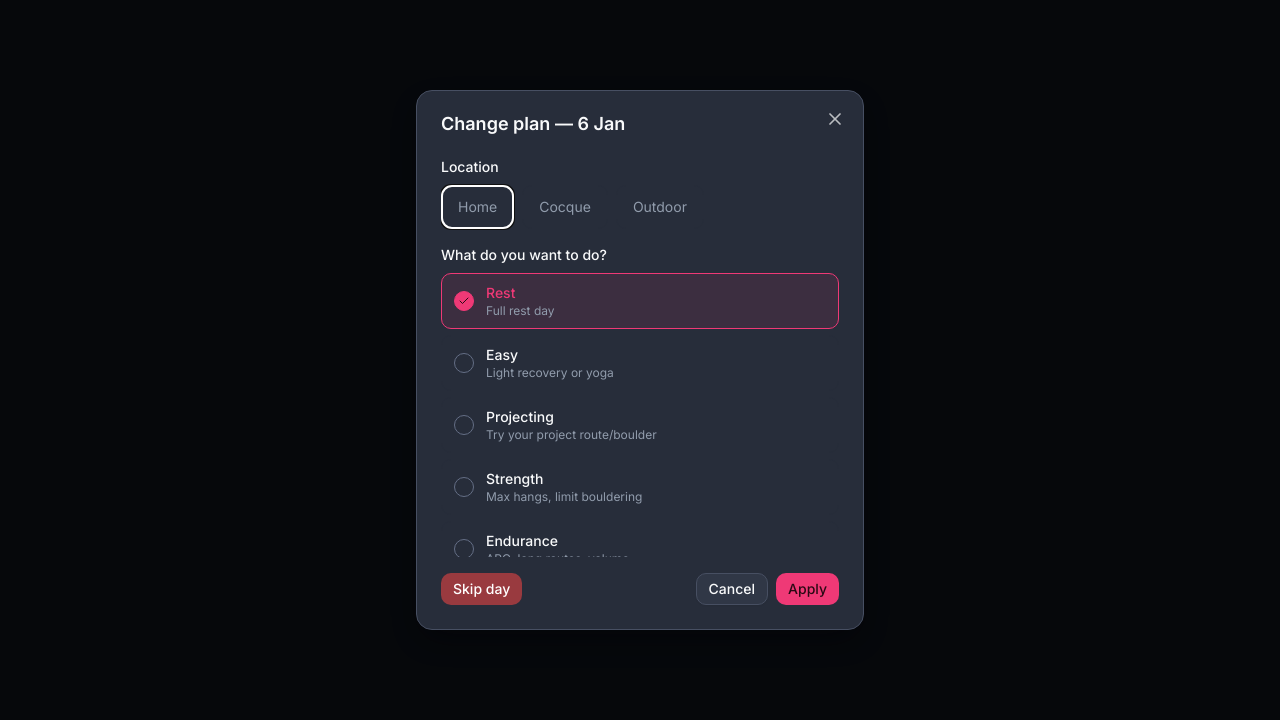
ReplanDialog — outdoor spot picker (B360) › carica gli spot passando su Outdoor
Click the button "Outdoor": click(660, 207) [616,185,704,229]
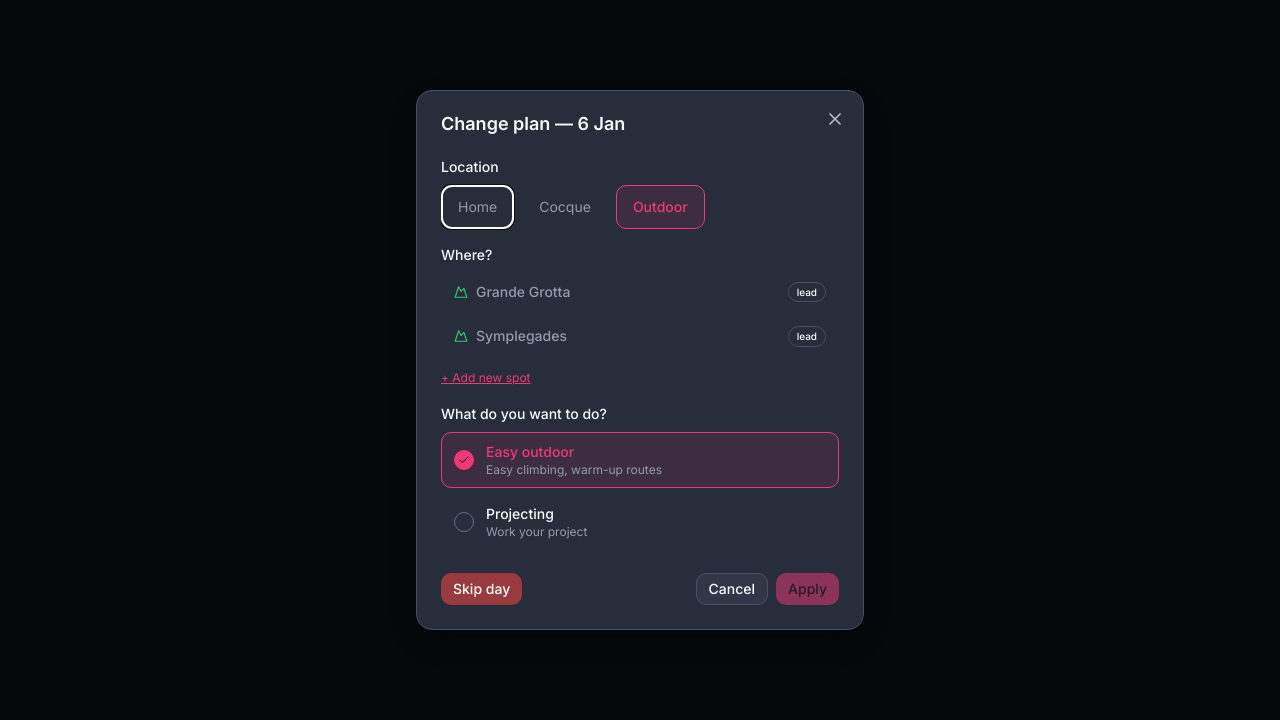
Now the text "Grande Grotta" is shown, box [476,282,570,302]
